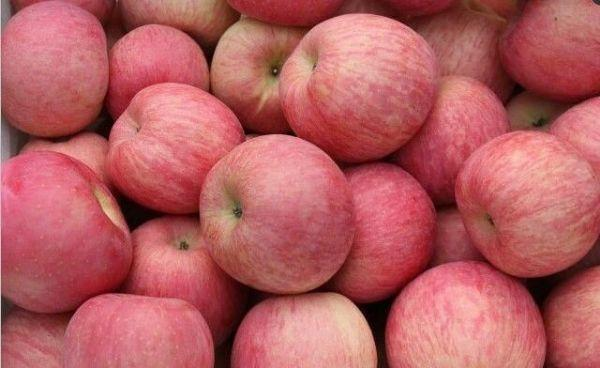apple: (200, 133, 356, 296), (277, 14, 440, 162), (452, 129, 598, 279), (2, 152, 132, 320), (104, 81, 247, 218), (383, 259, 548, 368), (397, 74, 510, 210), (1, 1, 109, 137), (126, 215, 237, 340), (340, 162, 439, 302), (56, 292, 213, 365), (209, 13, 302, 134), (229, 290, 373, 364), (105, 21, 210, 120), (498, 1, 598, 103)
